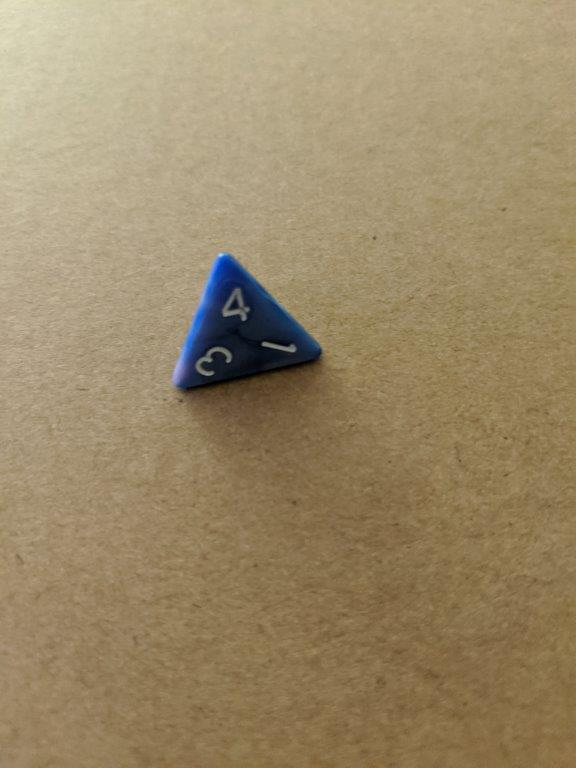d4-4: (170, 249, 327, 399)
